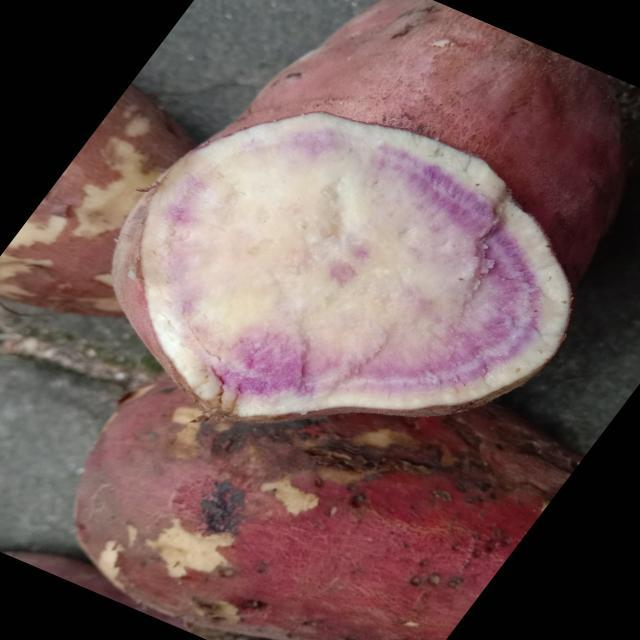Healthy Sweet Potato: (113, 112, 572, 421)
